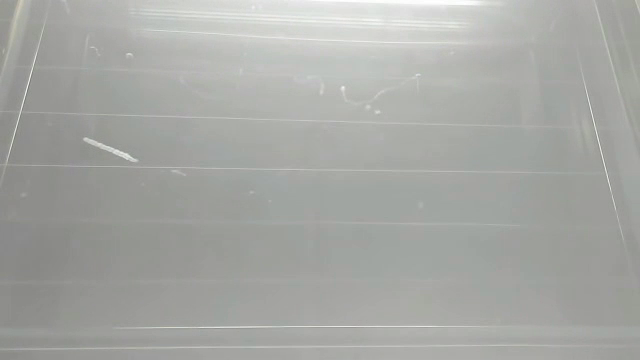alpha: (80, 134, 140, 168)
